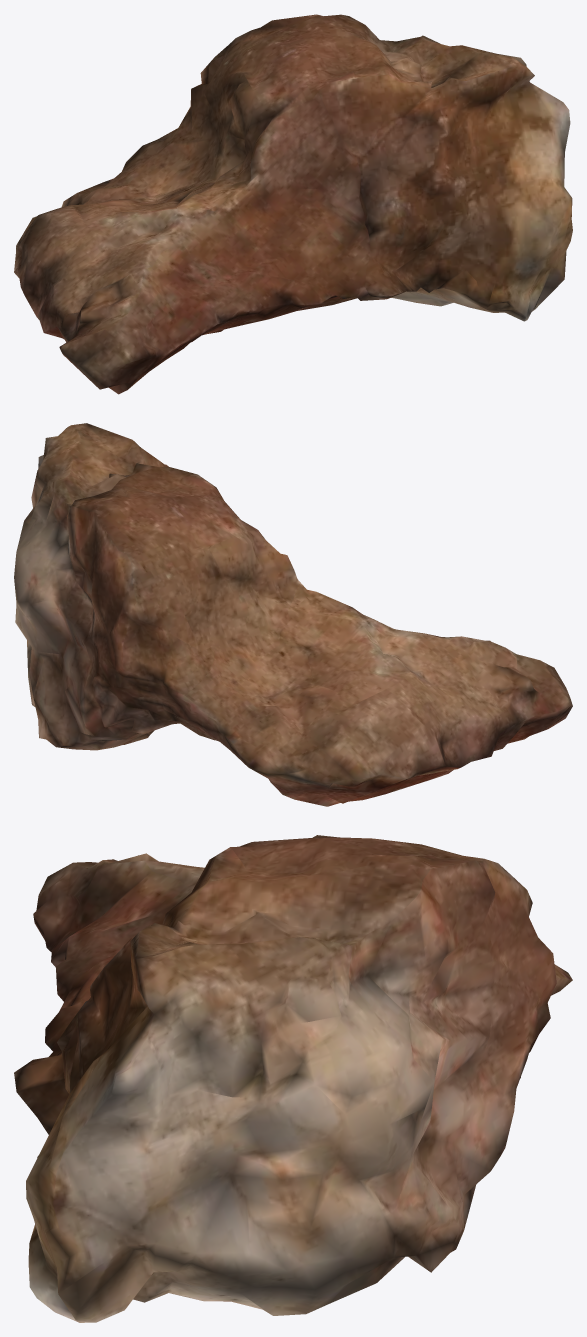
File: stone_01.glb
3 renders of one model, top to bottom at view 1: azimuth 30°, elevation 25°; view 2: azimuth 150°, elevation 25°; view 3: azimuth 270°, elevation 25°, orthographic. The views are drawn at different scales.
Visible parts, largest first — view 1: stone_01; view 2: stone_01; view 3: stone_01.
Boxes of the visible parts, x1,y1,x2,y2 form: stone_01: (14,14,572,394); stone_01: (14,423,572,806); stone_01: (14,835,572,1322).
Bounding box in the file's own units: 0.1463 × 0.0716 × 0.089.
Materials: 1 (1 with a texture image).
